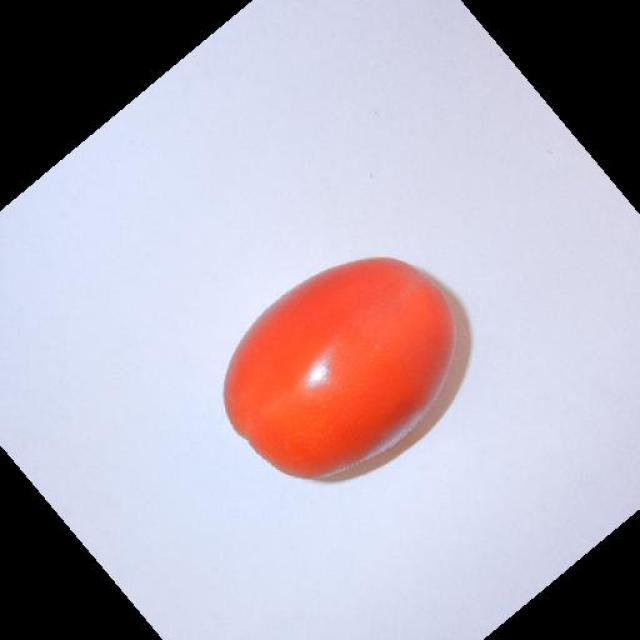Fresh Tomato: (219, 252, 474, 502)
